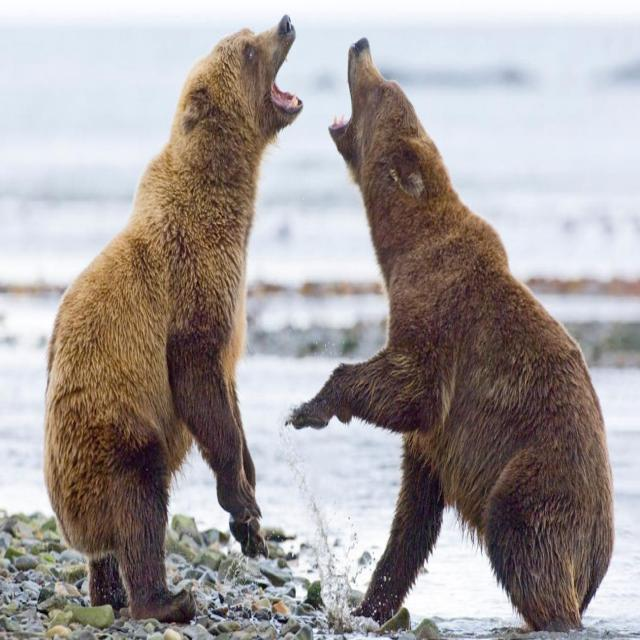Bear: (287, 38, 616, 635), (42, 17, 304, 627)
